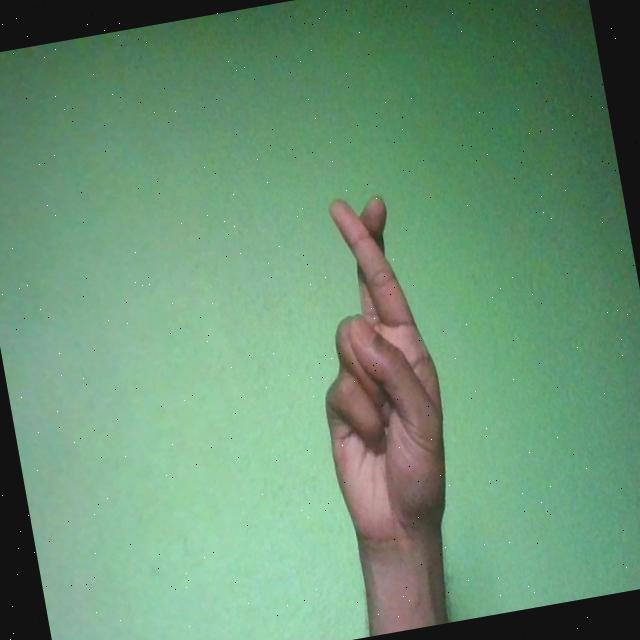Ok: (287, 183, 466, 559)
